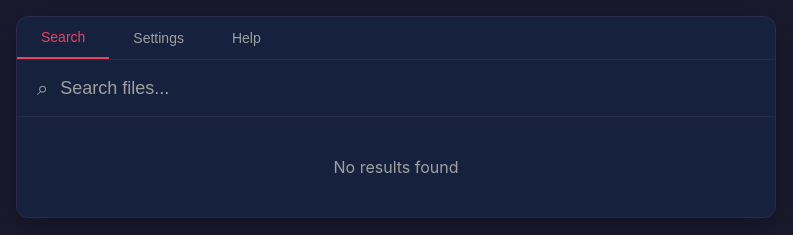
Test: App › displays loading state during search
Step 1. Type "test" into the field with placeholder "Search files..." → (408, 88), box [60,78,755,98]
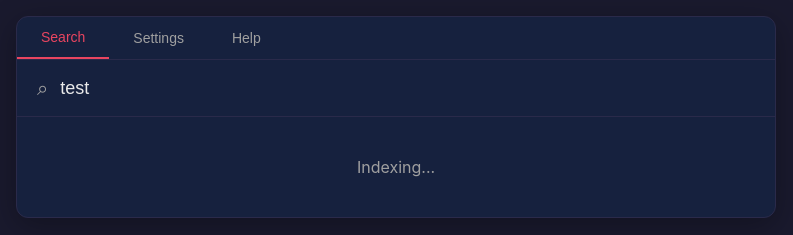
Expected: the text "Indexing..." is shown, [357,157,435,177]
